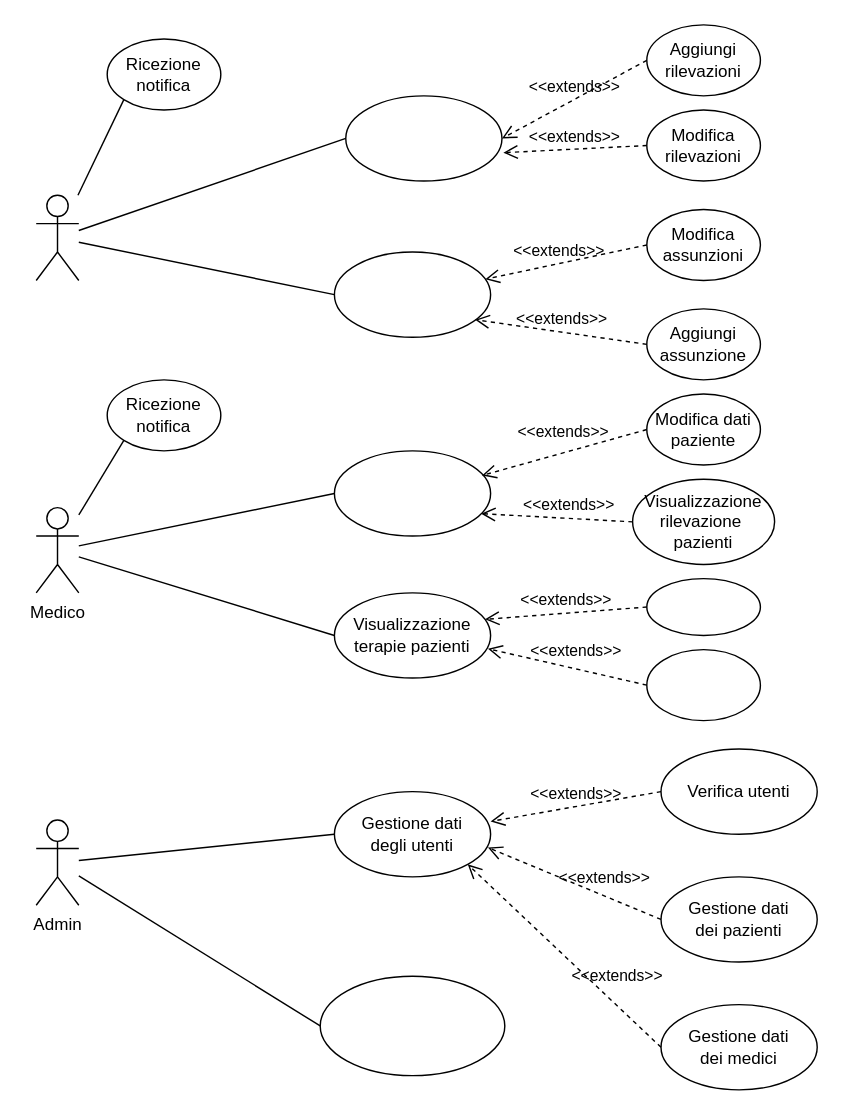
Image size: 842x1115. Some labels were removed from this diagram. The shapes that lost their labels are listed below. From the top down, each one's box as (x1, y1, x2, y2) in pixels, then its label:
(344, 94, 502, 181): Visualizzazione rilevazioni
(35, 194, 79, 280): Paziente
(333, 251, 491, 337): Visualizzazione assunzioni terapie
(333, 449, 491, 536): Visualizzazione dati pazienti
(645, 577, 760, 635): Aggiunta terapia
(645, 648, 760, 721): Modifica terapia
(319, 975, 505, 1076): Visualizzazione modifiche dati da parte del medico
